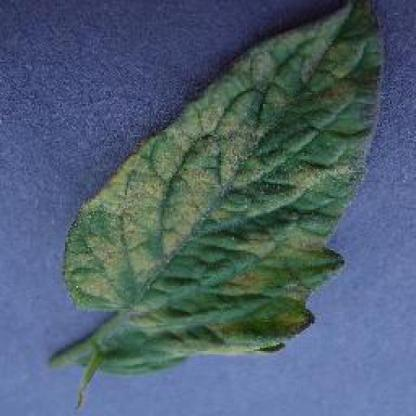Tomato_Leaf_Mold: (61, 0, 380, 342)
